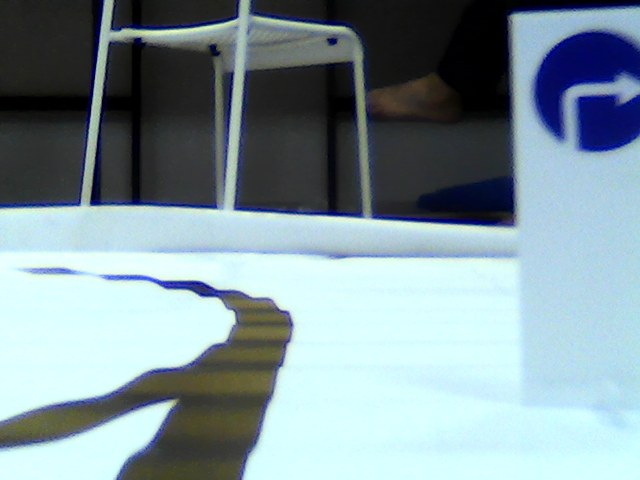Right: (532, 26, 640, 154)
